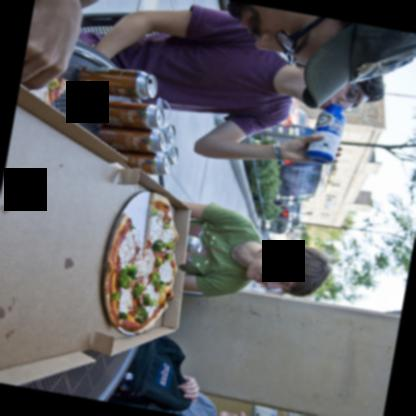backpack: (105, 334, 190, 411)
handbag: (109, 335, 193, 414)
